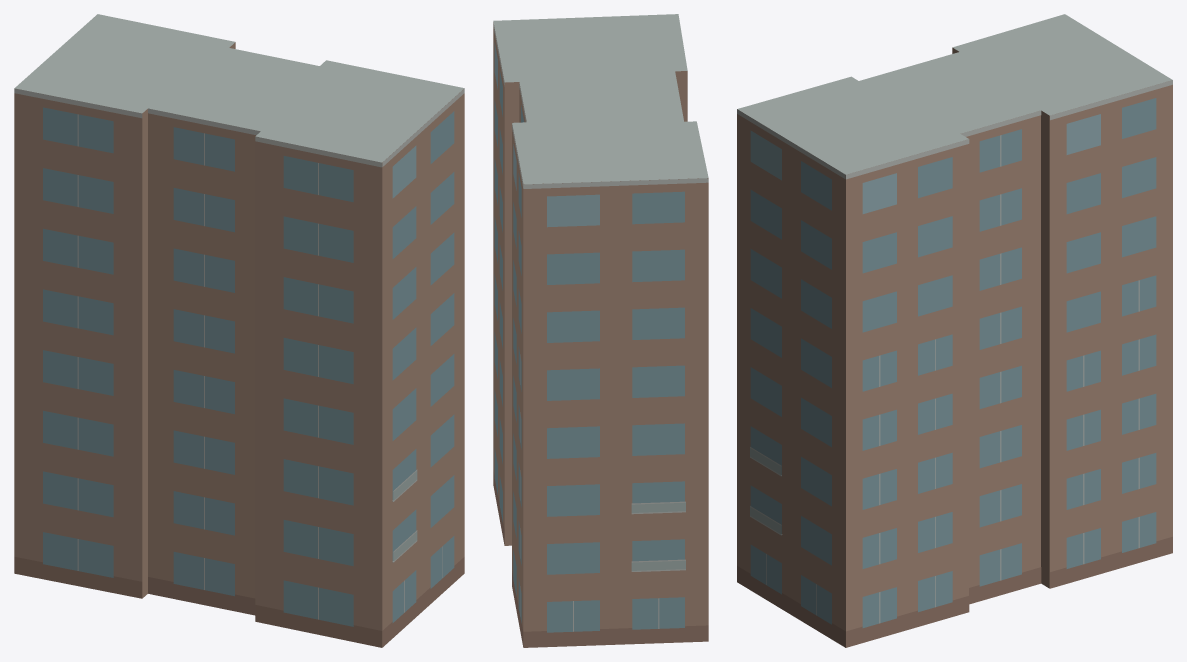
The model's file is survey-upis-33013729.glb.
The picture shows the model from 3 angles, left to right: view 1: azimuth 30°, elevation 25°; view 2: azimuth 150°, elevation 25°; view 3: azimuth 270°, elevation 25°; orthographic projection. The views are drawn at different scales.
Parts seen in each view (by area): view 1: survey-upis-33013729.tmp; view 2: survey-upis-33013729.tmp; view 3: survey-upis-33013729.tmp.
Part boxes in pixels (x1=…): survey-upis-33013729.tmp: x1=14, y1=14, x2=464, y2=647; survey-upis-33013729.tmp: x1=493, y1=14, x2=708, y2=647; survey-upis-33013729.tmp: x1=737, y1=14, x2=1172, y2=647.
Bounding box in the file's own units: 17.72 × 24.3 × 20.29.
